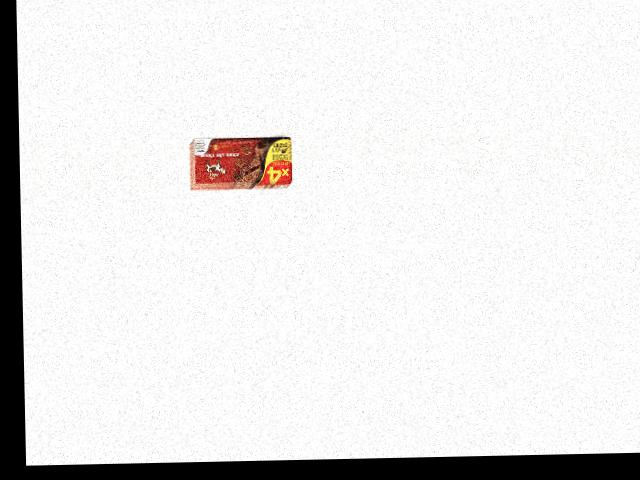chocolate: (190, 133, 293, 189)
